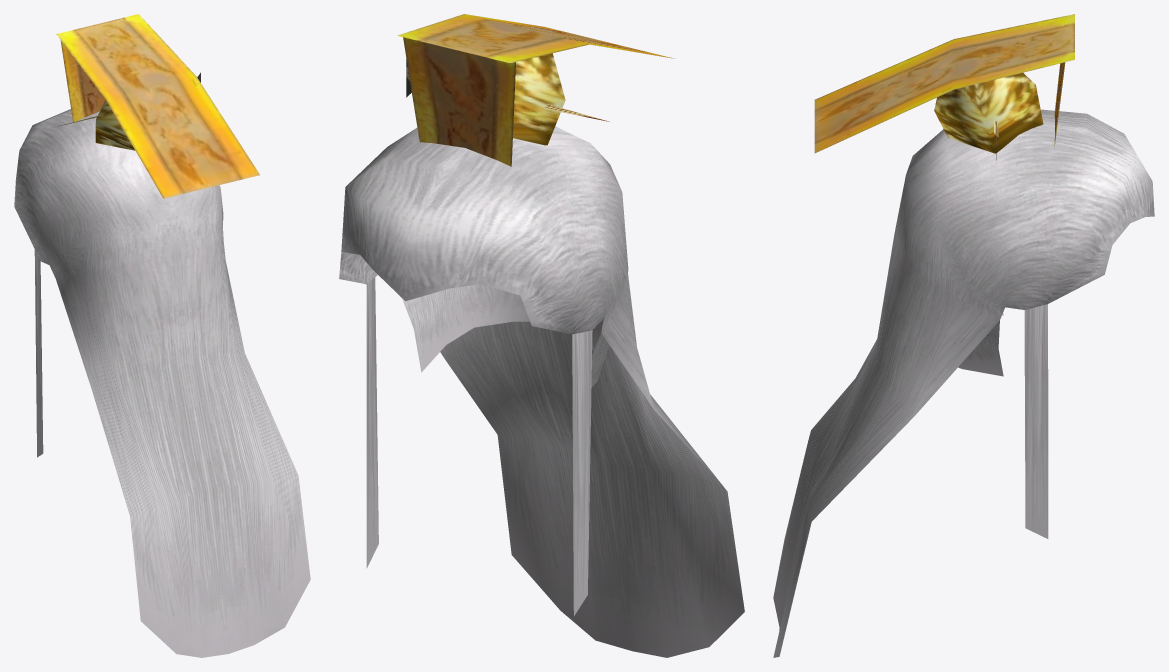
Rendered from Martial arts male hair 60.glb.
The picture shows the model from 3 angles, left to right: view 1: azimuth 30°, elevation 25°; view 2: azimuth 150°, elevation 25°; view 3: azimuth 270°, elevation 25°; orthographic projection. The views are drawn at different scales.
Parts seen in each view (by area): view 1: 武侠男头发60_0, 武侠男头发60_2, 武侠男头发60_1; view 2: 武侠男头发60_0, 武侠男头发60_2, 武侠男头发60_1; view 3: 武侠男头发60_0, 武侠男头发60_2, 武侠男头发60_1.
Boxes of the visible parts, x1,y1,x2,y2 form: 武侠男头发60_0: (14,109,310,657); 武侠男头发60_2: (56,14,259,198); 武侠男头发60_1: (57,72,200,150); 武侠男头发60_0: (339,126,744,657); 武侠男头发60_2: (397,14,675,166); 武侠男头发60_1: (406,53,609,145); 武侠男头发60_0: (773,109,1154,657); 武侠男头发60_2: (814,14,1074,153); 武侠男头发60_1: (934,73,1043,160).
Bounding box in the file's own units: 0.1678 × 0.5001 × 0.2845.
3 materials, 3 textured.
